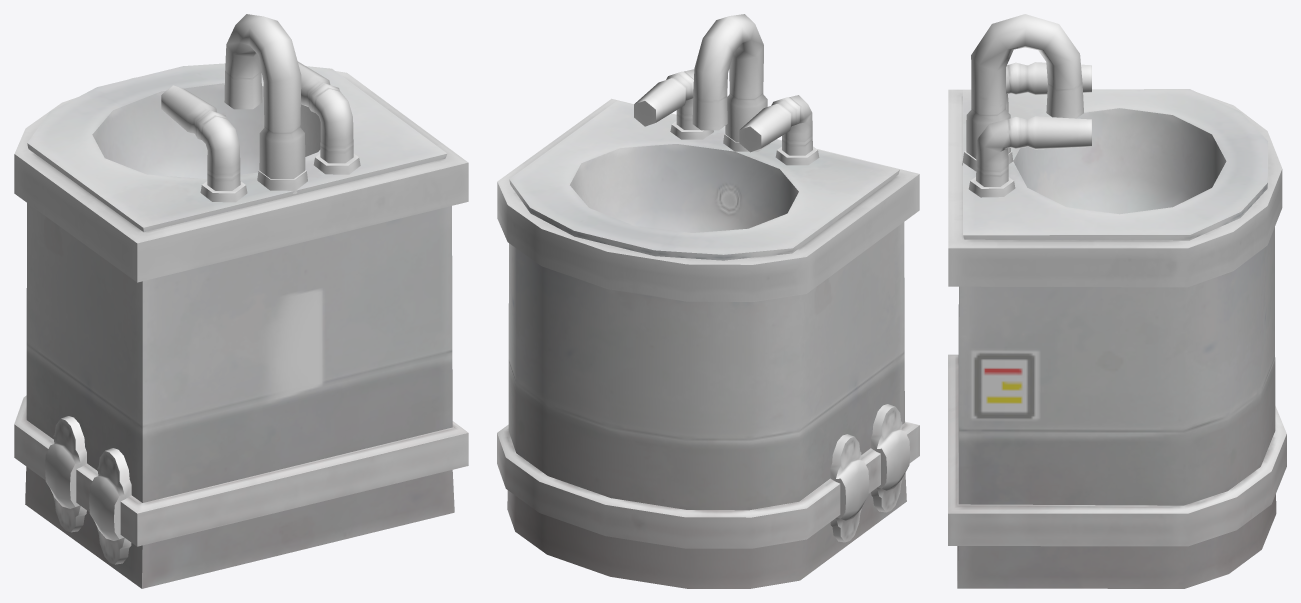
The model's file is Pfb_Indoors_WC__3.fbx.
The picture shows the model from 3 angles, left to right: view 1: azimuth 30°, elevation 25°; view 2: azimuth 150°, elevation 25°; view 3: azimuth 270°, elevation 25°; orthographic projection. The views are drawn at different scales.
Parts seen in each view (by area): view 1: Mat_Indoors_WC_01; view 2: Mat_Indoors_WC_01; view 3: Mat_Indoors_WC_01.
Boxes of the visible parts, bbox=[...] form: Mat_Indoors_WC_01: bbox=[14, 14, 468, 588]; Mat_Indoors_WC_01: bbox=[497, 14, 919, 588]; Mat_Indoors_WC_01: bbox=[948, 14, 1286, 588].
Size of the model in its own units: 0.9026 by 1.29 by 0.7923.
1 material, 1 textured.
